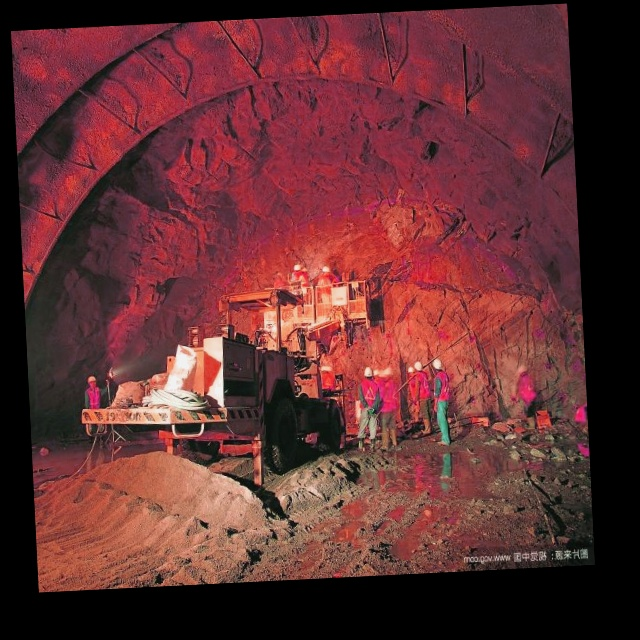Con_Casco: (87, 375, 97, 388), (364, 366, 373, 378)
Con_Chaleco: (359, 379, 379, 412), (84, 387, 100, 410)
